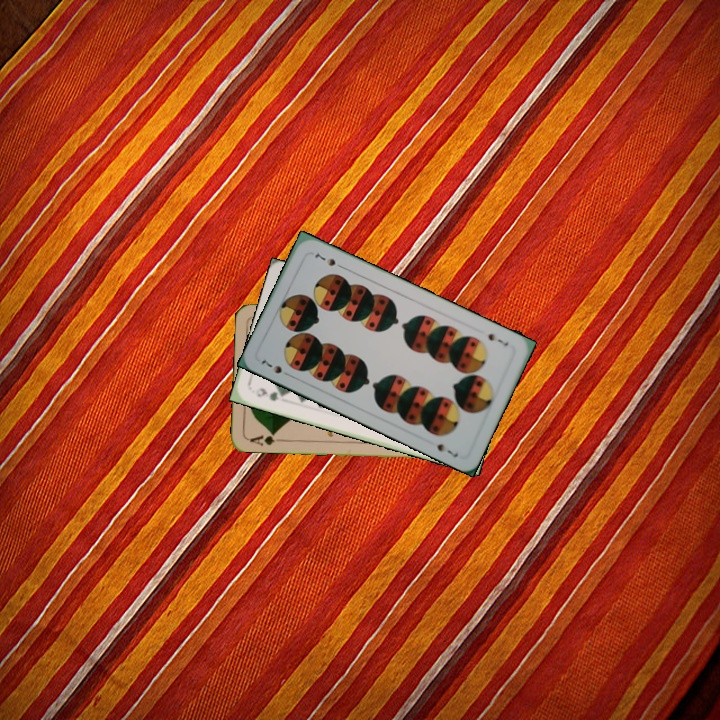G9: (252, 384, 281, 404)
GA: (246, 429, 285, 448)
S7: (257, 356, 294, 380), (482, 329, 511, 349)
